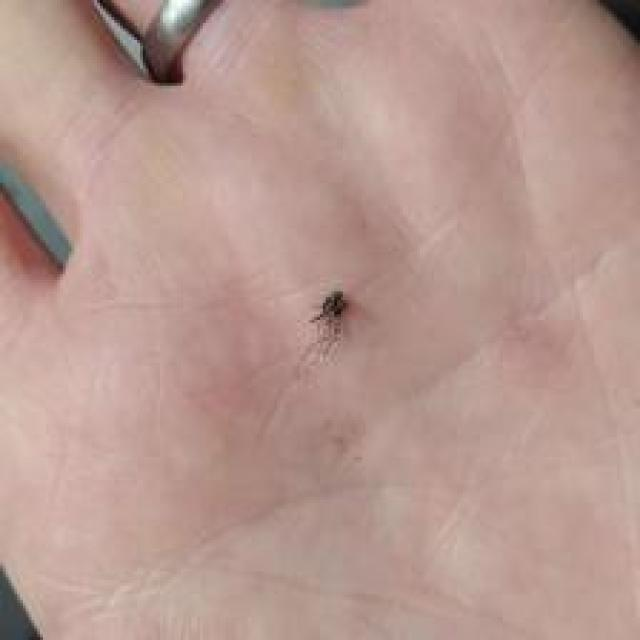Aedes albopictus: (304, 288, 350, 363)
